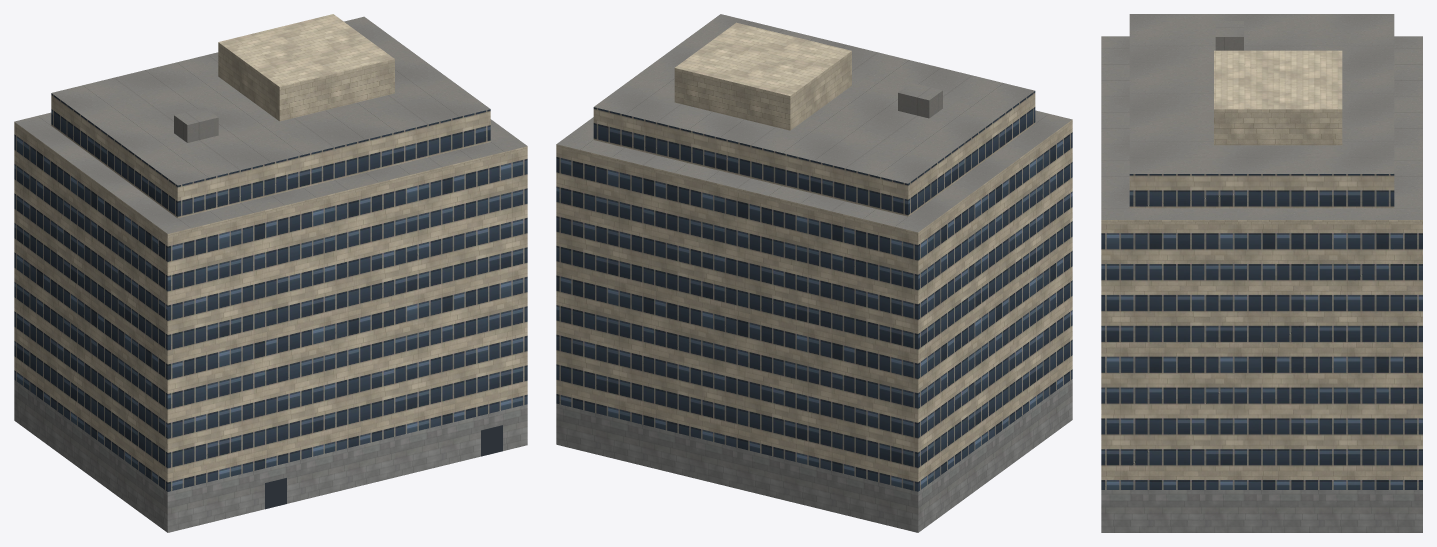
The model's file is dc_office_band.glb.
3 views of the same model, side by side, from view 1: azimuth 30°, elevation 25°; view 2: azimuth 150°, elevation 25°; view 3: azimuth 270°, elevation 25° (orthographic). The views are drawn at different scales.
Visible parts, largest first — view 1: dc_office_band; view 2: dc_office_band; view 3: dc_office_band.
Boxes of the visible parts, x1,y1,x2,y2 form: dc_office_band: [14, 14, 527, 532]; dc_office_band: [556, 14, 1072, 532]; dc_office_band: [1101, 14, 1422, 532].
Size of the model in its own units: 46 by 44.7 by 34.02.
5 materials, 5 textured.
